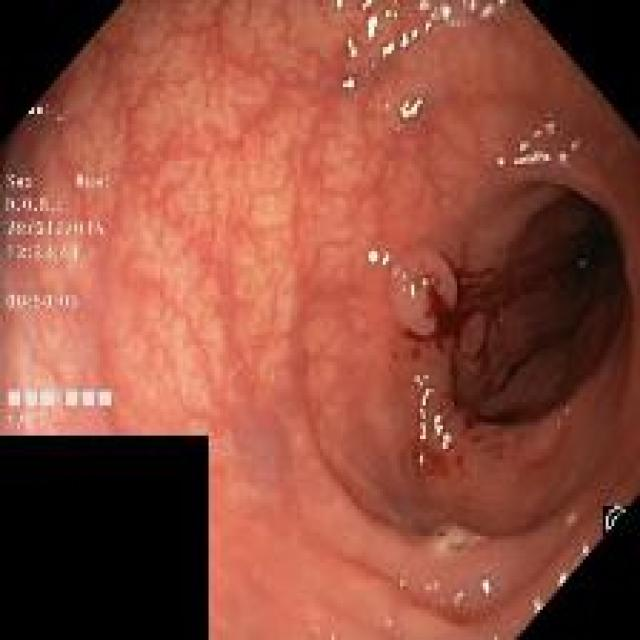Polyps: (390, 249, 458, 337)
